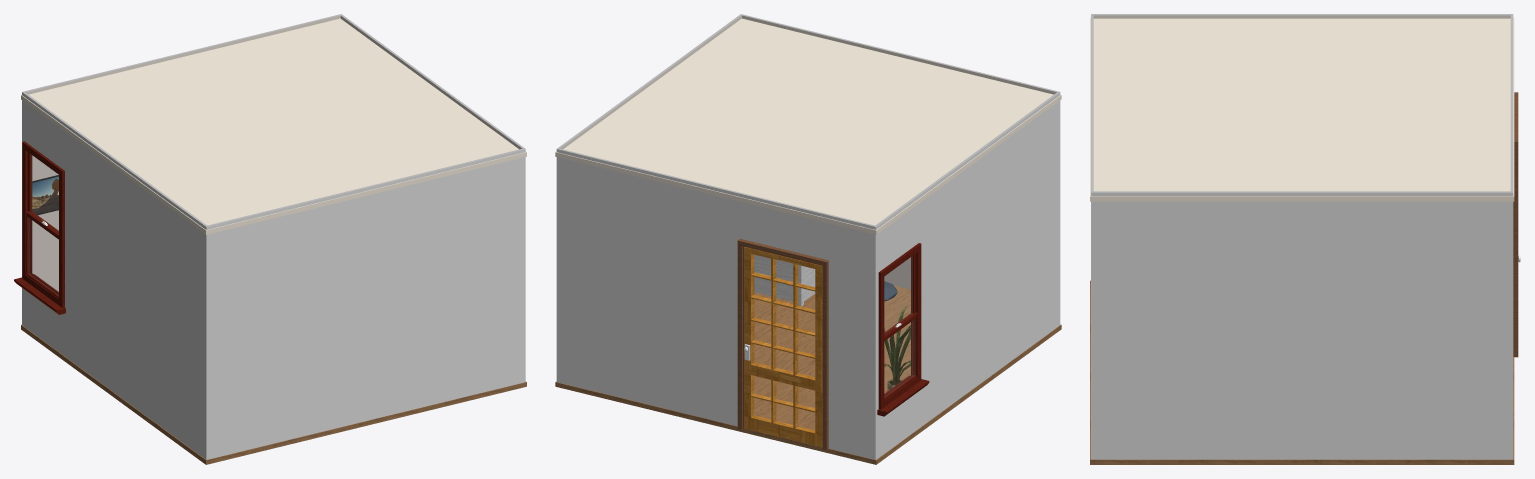
Rendered from ProcTHOR-Train-75.glb.
3 renders of one model, left to right at view 1: azimuth 30°, elevation 25°; view 2: azimuth 150°, elevation 25°; view 3: azimuth 270°, elevation 25°, orthographic. The views are drawn at different scales.
Visible parts, largest first — view 1: WallInside#wall|exterior|0.00|3.70|3.70|3.70, Ceiling#room|2|c, WallInside#wall|exterior|3.70|0.00|3.70|3.70, Window_Hung_32x60, WallInside#wall|2|0.00|0.00|3.70|0.00, Floor#room|2|f, Wall_Decor_Photo_1V, WallInside#wall|2|0.00|0.00|0.00|3.70; view 2: Ceiling#room|2|c, WallInside#wall|exterior|0.00|0.00|3.70|0.00, WallInside#wall|exterior|3.70|0.00|3.70|3.70, Doorway_5, Floor#room|2|f, Window_Hung_32x60, WallInside#wall|2|0.00|3.70|3.70|3.70, TV_Stand_204_1, Houseplant_6, WallInside#wall|2|0.00|0.00|0.00|3.70; view 3: WallInside#wall|exterior|0.00|0.00|0.00|3.70, Ceiling#room|2|c, Floor#room|2|f, WallInside#wall|2|3.70|0.00|3.70|3.70, Doorway_5, WallInside#wall|exterior|0.00|3.70|3.70|3.70.
Part boxes in pixels (x1,y1,x2,y2): WallInside#wall|exterior|0.00|3.70|3.70|3.70: [206, 149, 525, 459]; Ceiling#room|2|c: [21, 18, 526, 234]; WallInside#wall|exterior|3.70|0.00|3.70|3.70: [22, 92, 206, 459]; Window_Hung_32x60: [14, 141, 65, 314]; WallInside#wall|2|0.00|0.00|3.70|0.00: [25, 14, 341, 291]; Floor#room|2|f: [21, 324, 526, 464]; Wall_Decor_Photo_1V: [32, 175, 58, 215]; WallInside#wall|2|0.00|0.00|0.00|3.70: [339, 14, 524, 149]; Ceiling#room|2|c: [555, 18, 1061, 234]; WallInside#wall|exterior|0.00|0.00|3.70|0.00: [556, 148, 875, 459]; WallInside#wall|exterior|3.70|0.00|3.70|3.70: [876, 92, 1060, 459]; Doorway_5: [737, 238, 828, 450]; Floor#room|2|f: [555, 285, 1061, 464]; Window_Hung_32x60: [877, 243, 929, 416]; WallInside#wall|2|0.00|3.70|3.70|3.70: [740, 14, 1058, 289]; TV_Stand_204_1: [754, 254, 815, 306]; Houseplant_6: [884, 306, 910, 391]; WallInside#wall|2|0.00|0.00|0.00|3.70: [558, 14, 742, 149]; WallInside#wall|exterior|0.00|0.00|0.00|3.70: [1091, 192, 1513, 459]; Ceiling#room|2|c: [1090, 17, 1514, 201]; Floor#room|2|f: [1090, 280, 1514, 464]; WallInside#wall|2|3.70|0.00|3.70|3.70: [1091, 14, 1512, 18]; Doorway_5: [1513, 92, 1520, 357]; WallInside#wall|exterior|0.00|3.70|3.70|3.70: [1091, 14, 1092, 458].
Size of what is drawn, in the model's own units: 3.84 by 2.65 by 3.8.
Materials: 61 (20 with a texture image).
